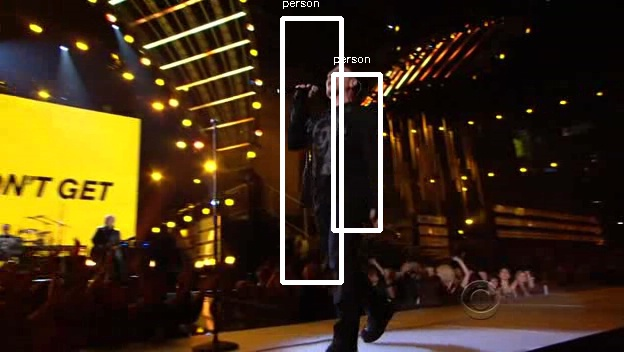person: (292, 65, 375, 237), (289, 65, 372, 237), (295, 65, 378, 237), (292, 62, 375, 234), (292, 68, 375, 240)
target_negative: (53, 62, 304, 265), (3, 91, 117, 323), (386, 299, 479, 340), (589, 3, 616, 135), (108, 120, 123, 249), (617, 86, 618, 333)
